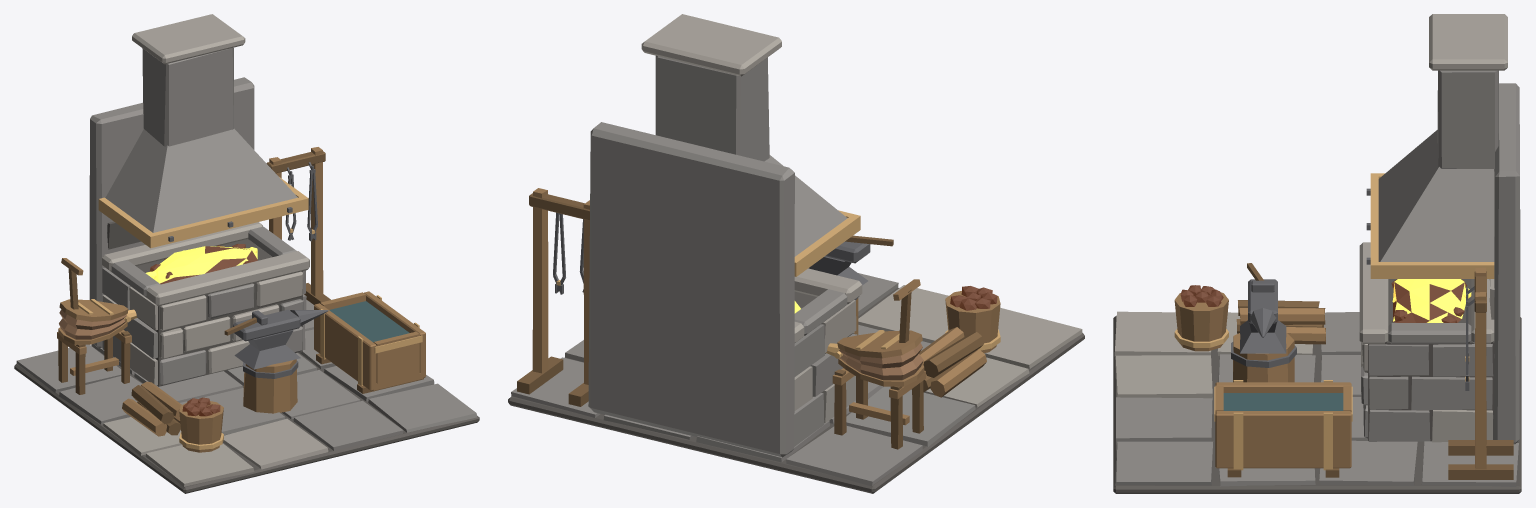
Rendered from forge.glb.
3 views of the same model, side by side, from view 1: azimuth 30°, elevation 25°; view 2: azimuth 150°, elevation 25°; view 3: azimuth 270°, elevation 25° (orthographic). The views are drawn at different scales.
Parts seen in each view (by area): view 1: floor, forge_hearth, forge_hood, chimney, forge_wall, trough, anvil, tong_rack, anvil_stump, coals, firewood, coal_bucket (+7 smaller); view 2: forge_wall, floor, chimney, forge_hearth, tong_rack, forge_hood, bellows_stand, firewood, coal_bucket, bellows_top, bellows_leather, anvil (+3 smaller); view 3: floor, forge_hearth, forge_hood, chimney, trough, forge_wall, tong_rack, coals, coal_bucket, anvil, trough_water, anvil_stump (+2 smaller).
Part boxes in pixels (x1,y1,x2,y2): floor: (14, 299, 479, 493); forge_hearth: (102, 222, 309, 386); forge_hood: (98, 128, 308, 248); chimney: (132, 14, 245, 146); forge_wall: (89, 77, 254, 348); trough: (314, 291, 425, 393); anvil: (233, 309, 328, 369); tong_rack: (266, 147, 330, 304); anvil_stump: (243, 359, 298, 413); coals: (145, 244, 257, 284); firewood: (122, 381, 181, 436); coal_bucket: (179, 397, 223, 452); forge_wall: (588, 122, 794, 457); floor: (508, 273, 1084, 493); chimney: (641, 14, 781, 161); forge_hearth: (794, 268, 862, 446); tong_rack: (517, 188, 589, 406); forge_hood: (764, 155, 860, 276); bellows_stand: (832, 368, 925, 449); firewood: (919, 327, 986, 397); coal_bucket: (945, 286, 1000, 352); bellows_top: (837, 330, 922, 358); bellows_leather: (839, 343, 923, 380); anvil: (808, 241, 870, 285); floor: (1113, 311, 1521, 493); forge_hearth: (1359, 242, 1494, 442); forge_hood: (1366, 130, 1494, 278); chimney: (1429, 14, 1507, 171); trough: (1214, 380, 1352, 477); forge_wall: (1489, 83, 1520, 444); tong_rack: (1448, 267, 1513, 479); coals: (1391, 279, 1471, 322); coal_bucket: (1174, 285, 1228, 351); anvil: (1240, 279, 1286, 353); trough_water: (1223, 393, 1343, 410); anvil_stump: (1231, 333, 1296, 382).
Size of what is drawn, in the model's own units: 3 by 3.04 by 3.
